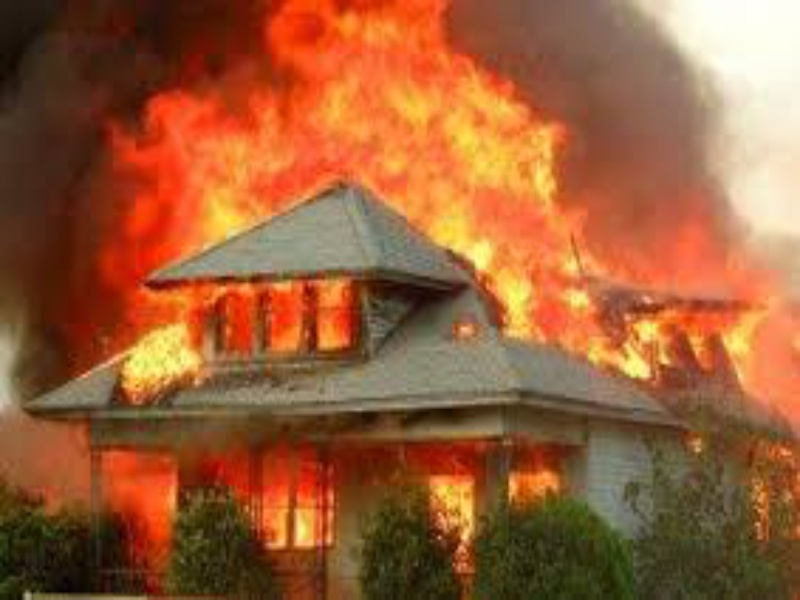fire: (75, 6, 585, 189), (397, 192, 774, 373), (69, 192, 260, 314), (226, 446, 342, 551), (113, 314, 213, 414)
